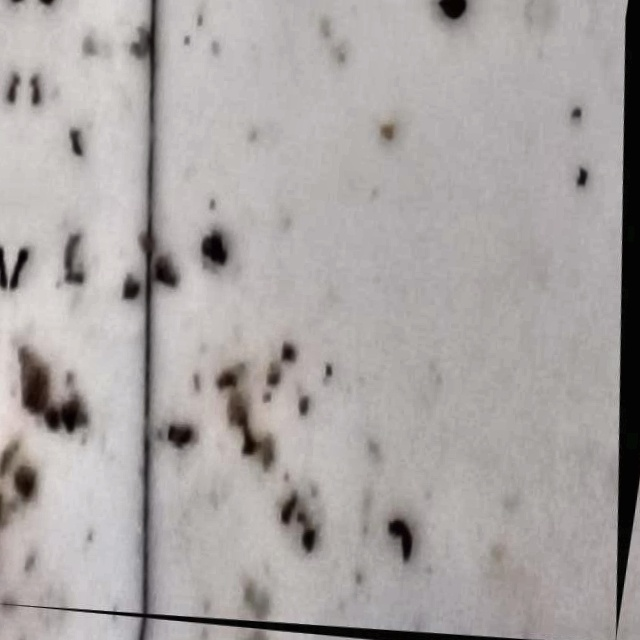varroa: (438, 3, 480, 29)
